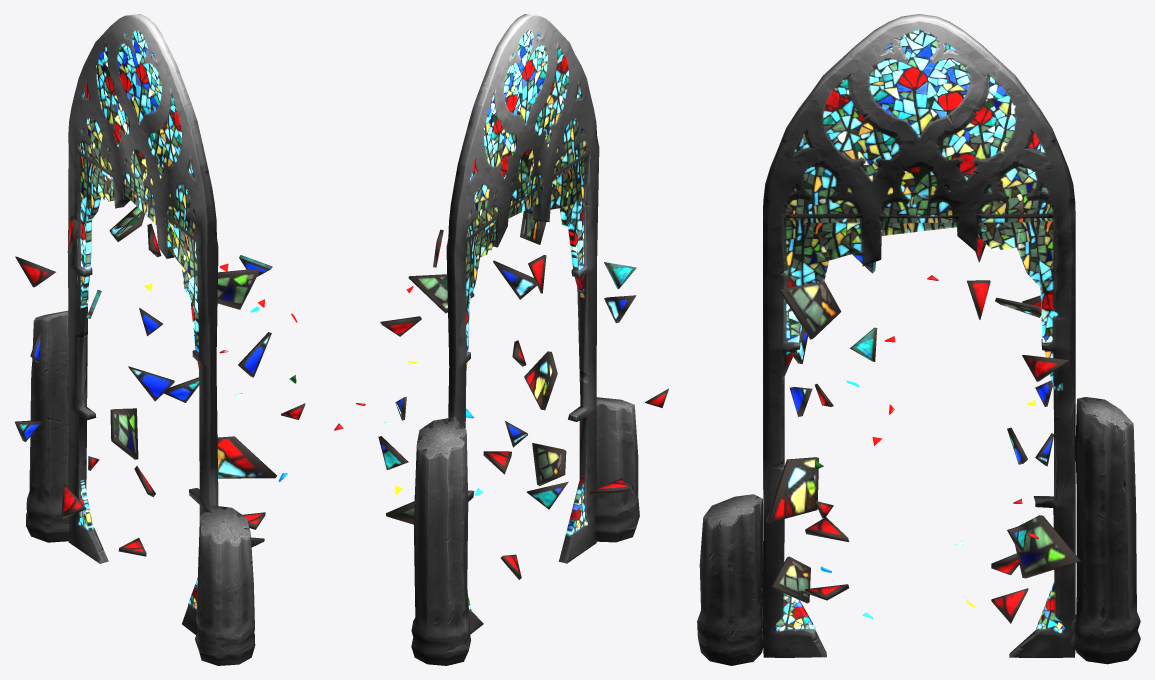
Rendered from stained.fbx.
3 views of the same model, side by side, from view 1: azimuth 30°, elevation 25°; view 2: azimuth 150°, elevation 25°; view 3: azimuth 270°, elevation 25° (orthographic). The views are drawn at different scales.
Parts seen in each view (by area): view 1: retopo; view 2: retopo; view 3: retopo.
Part boxes in pixels (box(x1,y1,x2,y2)): retopo: box(15, 14, 305, 665); retopo: box(334, 14, 668, 665); retopo: box(697, 14, 1140, 665).
Bounding box in the file's own units: 270 × 633 × 399.
